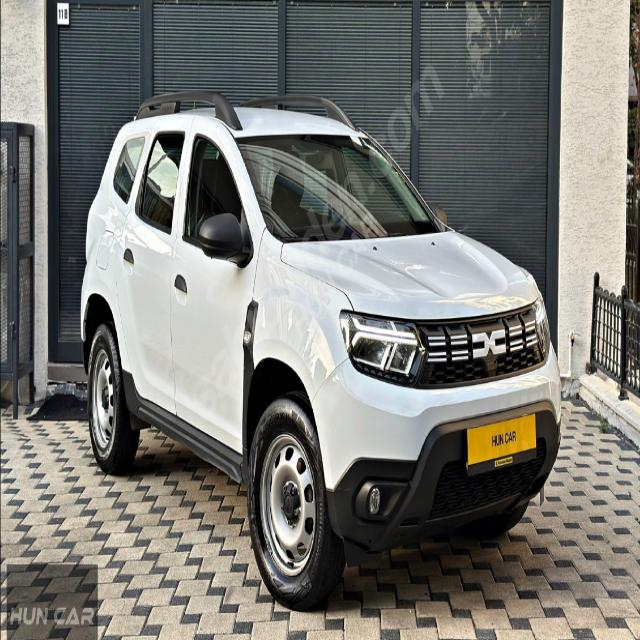dacia: (468, 324, 509, 365)
